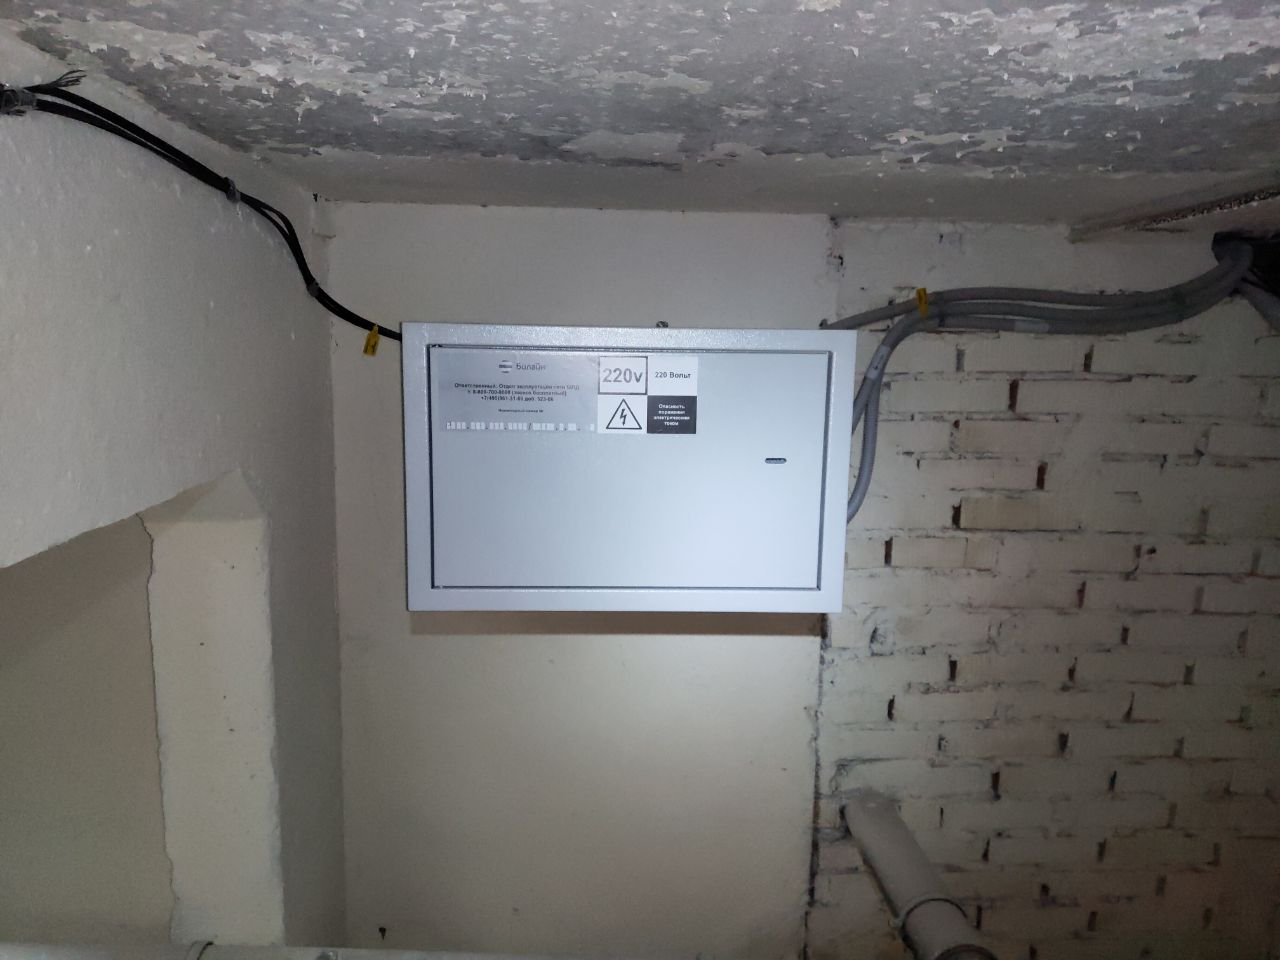shta-7m: (389, 307, 864, 634)
